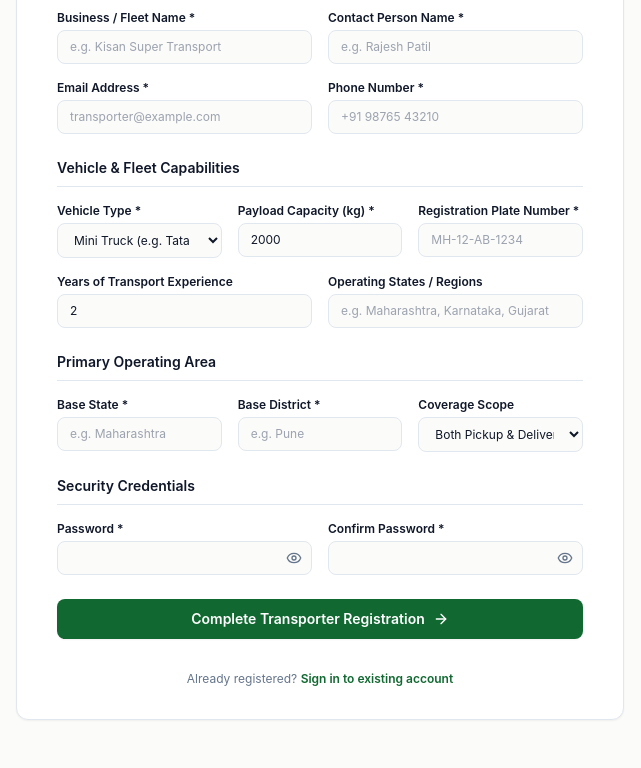
Test case: TransporterRegisterPage › validates empty submission and displays error messages
The image size is (641, 768).
(page scrolled)
Click the button "Complete Transporter Registration" at {"x": 320, "y": 619}, box [57, 599, 583, 639]
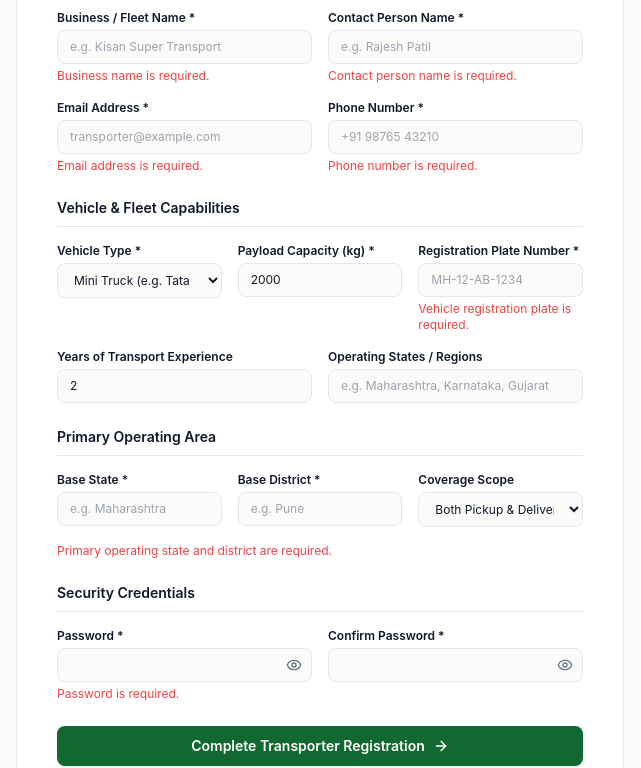
Check: the text "Contact person name is required." is shown, box [328, 68, 517, 83]
Check: the text "Business name is required." is shown, box [57, 68, 209, 83]
